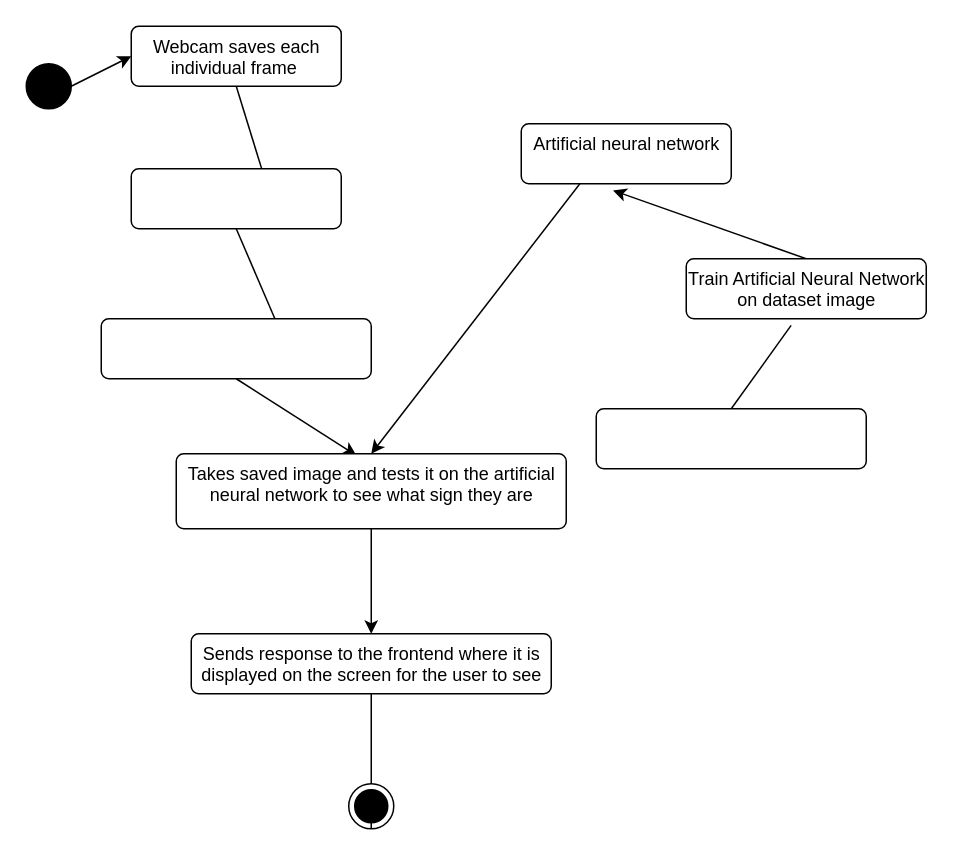
The diagram is 953 pixels wide and 867 high, and some of its shapes have lost their labels. The box of each missing label's shape, as (x1, y1, x2, y2) in pixels:
Dataset with each American Sign Language sign as an image: (595, 407, 866, 469)
Determines the area where the sign is on the webcam: (100, 317, 371, 379)
Sends information to the backend: (130, 167, 341, 229)
